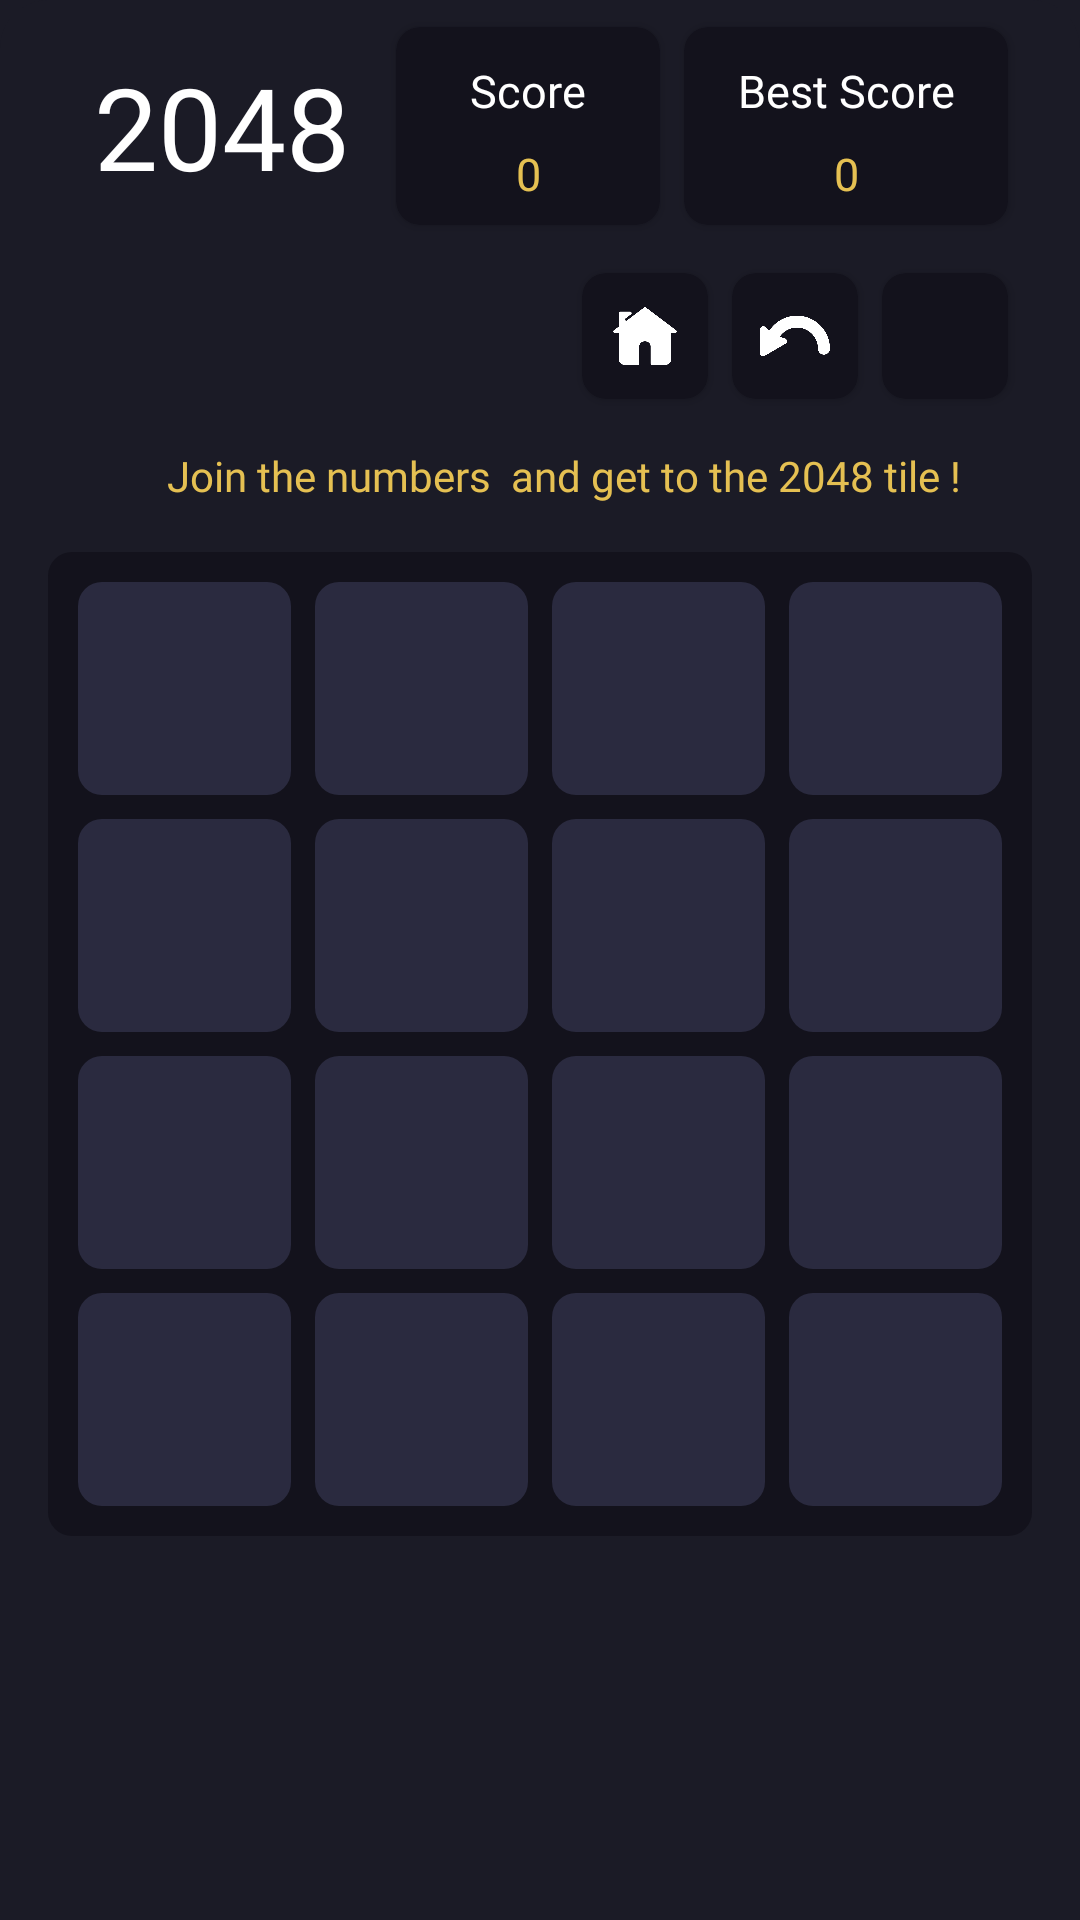

Named icons in this screenshot (1080px×1920px) and their centers, (x=x, y=y):
home: (x=645, y=336)
